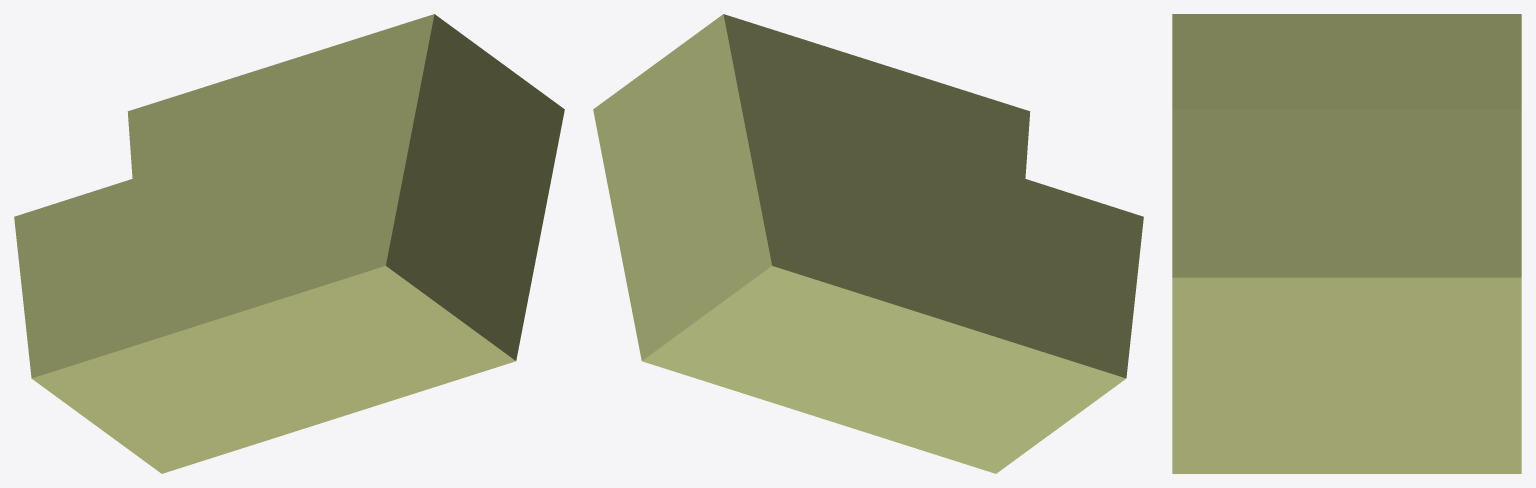
3 views of the same model, side by side, from view 1: azimuth 30°, elevation 25°; view 2: azimuth 150°, elevation 25°; view 3: azimuth 270°, elevation 25° (orthographic). The views are drawn at different scales.
Parts seen in each view (by area): view 1: 0_3_2_2_3_1_2_3_1; view 2: 0_3_2_2_3_1_2_3_1; view 3: 0_3_2_2_3_1_2_3_1.
Boxes of the visible parts, <box> form: 0_3_2_2_3_1_2_3_1: <box>14,14,564,473</box>; 0_3_2_2_3_1_2_3_1: <box>593,14,1143,473</box>; 0_3_2_2_3_1_2_3_1: <box>1172,14,1521,473</box>.
Size of the model in its own units: 11.17 by 6.76 by 6.
